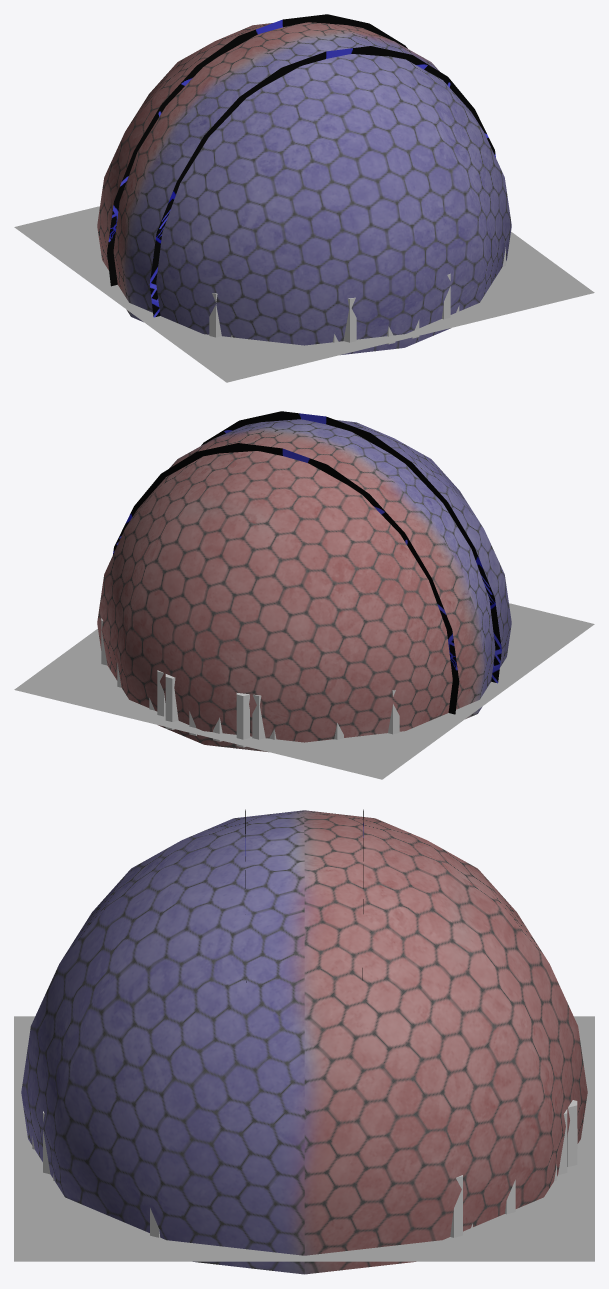
Rendered from Dome_exp_3.23.fbx.
3 views of the same model, one above another, from view 1: azimuth 30°, elevation 25°; view 2: azimuth 150°, elevation 25°; view 3: azimuth 270°, elevation 25° (orthographic). The views are drawn at different scales.
Visible parts, largest first — view 1: dome, floor, domeArch; view 2: dome, floor, domeArch, hex_layer5_68, hex_layer5_64; view 3: dome, floor, hex_layer5_64.
Part boxes in pixels (bbox=[...]): dome: bbox=[97, 22, 511, 355]; floor: bbox=[14, 206, 594, 382]; domeArch: bbox=[107, 14, 495, 317]; dome: bbox=[97, 419, 511, 752]; floor: bbox=[14, 603, 594, 779]; domeArch: bbox=[113, 411, 501, 714]; hex_layer5_68: bbox=[236, 693, 249, 747]; hex_layer5_64: bbox=[165, 674, 178, 729]; dome: bbox=[21, 810, 587, 1274]; floor: bbox=[14, 1016, 594, 1261]; hex_layer5_64: bbox=[567, 1100, 577, 1166].
Size of the model in its own units: 27.61 by 17.12 by 27.61.
